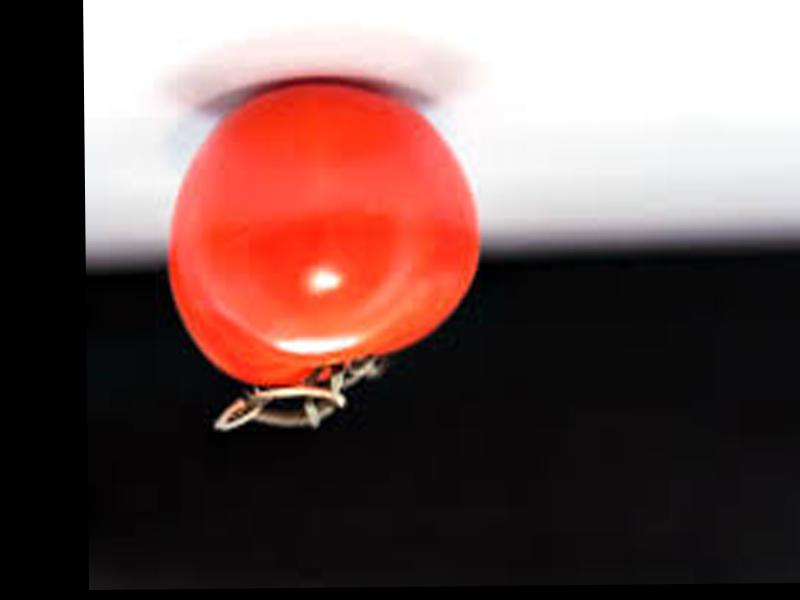Tomato: (165, 80, 483, 388)
